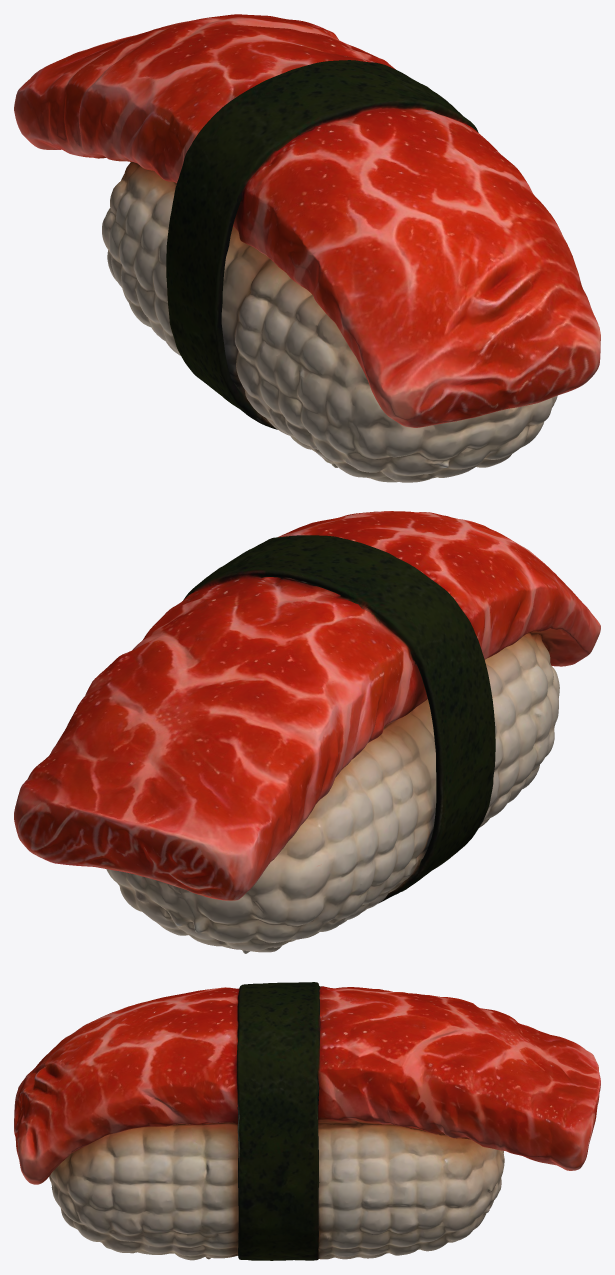
File: tripo_convert_83719d73-0ed3-4ade-8758-5050fae7fbfb.fbx
3 views of the same model, one above another, from view 1: azimuth 30°, elevation 25°; view 2: azimuth 150°, elevation 25°; view 3: azimuth 270°, elevation 25° (orthographic). The views are drawn at different scales.
Visible parts, largest first — view 1: tripo_node_83719d73; view 2: tripo_node_83719d73; view 3: tripo_node_83719d73.
Part boxes in pixels (x1,y1,x2,y2): tripo_node_83719d73: (14,14,600,482); tripo_node_83719d73: (14,511,600,953); tripo_node_83719d73: (14,982,600,1260).
Bounding box in the file's own units: 0.4224 × 0.4687 × 1.
